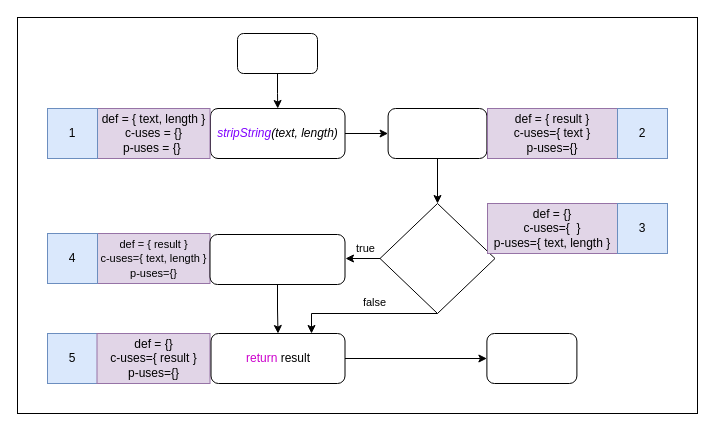
Image size: 715x431. Some labels were removed from this diagram. The box of each missing label's shape, as (x1, y1, x2, y2) in pixels:
end: (486, 332, 577, 384)
result = text: (387, 108, 487, 158)
result = text.substring(0, length) + "...": (209, 234, 345, 284)
Start: (236, 32, 318, 74)
text != null && text.length() > length: (379, 202, 495, 314)
